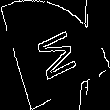M_W: (30, 25, 80, 85)
